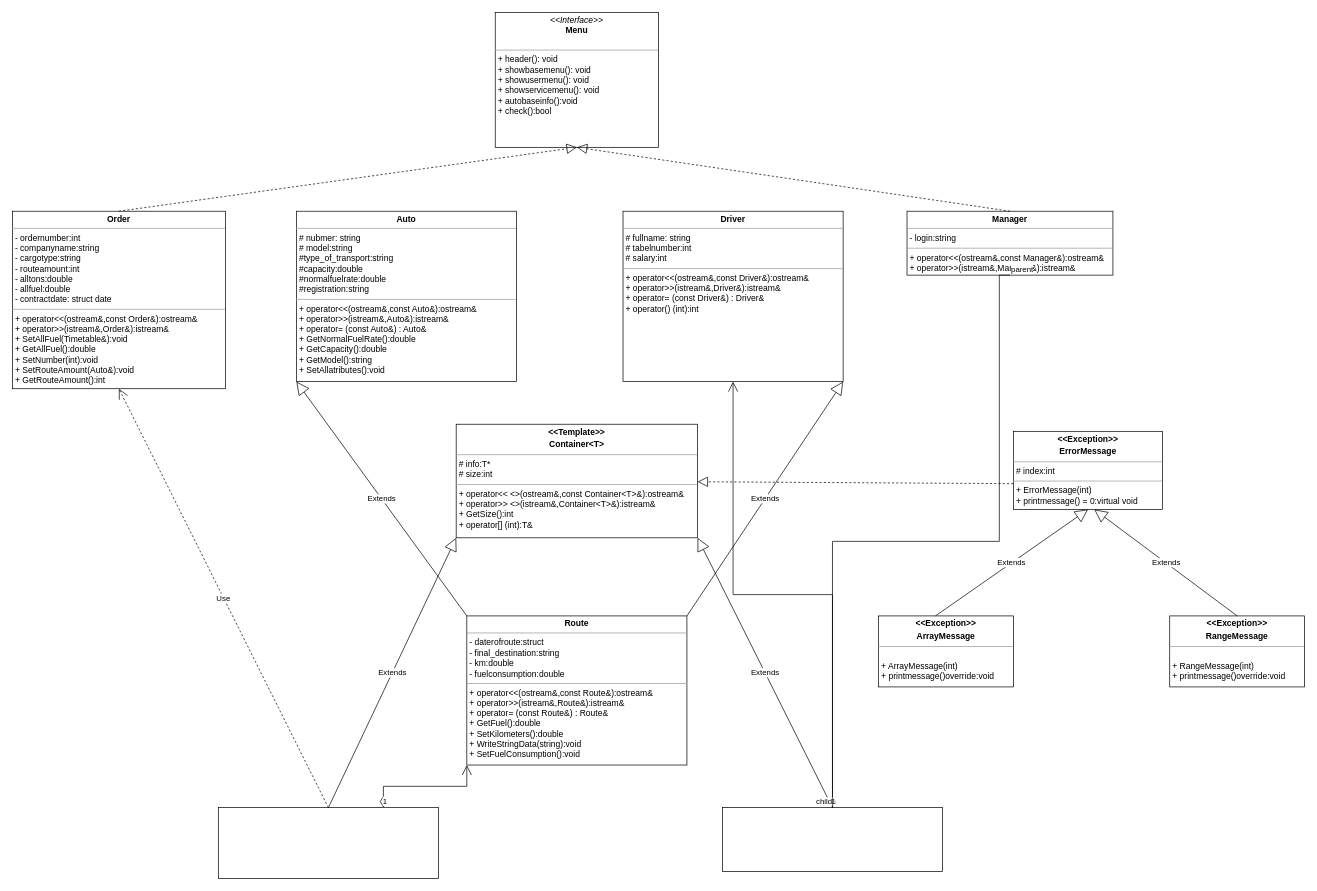
The diagram is 1317 pixels wide and 891 high, and some of its shapes have lost their labels. Here are the shapes that lost their labels. From the top down, the centre of each, then its label:
the point at 328,843: <<Container>> Timetable - fuelvalue:double + allfuel():double
the point at 832,839: <<Container>> SetofDrivers + Drivers() + Drivers(int)
